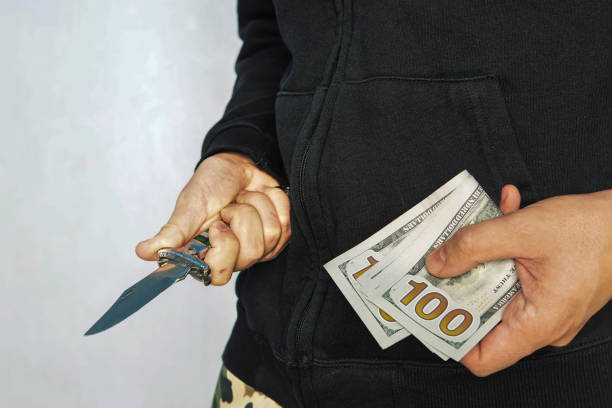knife: (82, 226, 210, 338)
